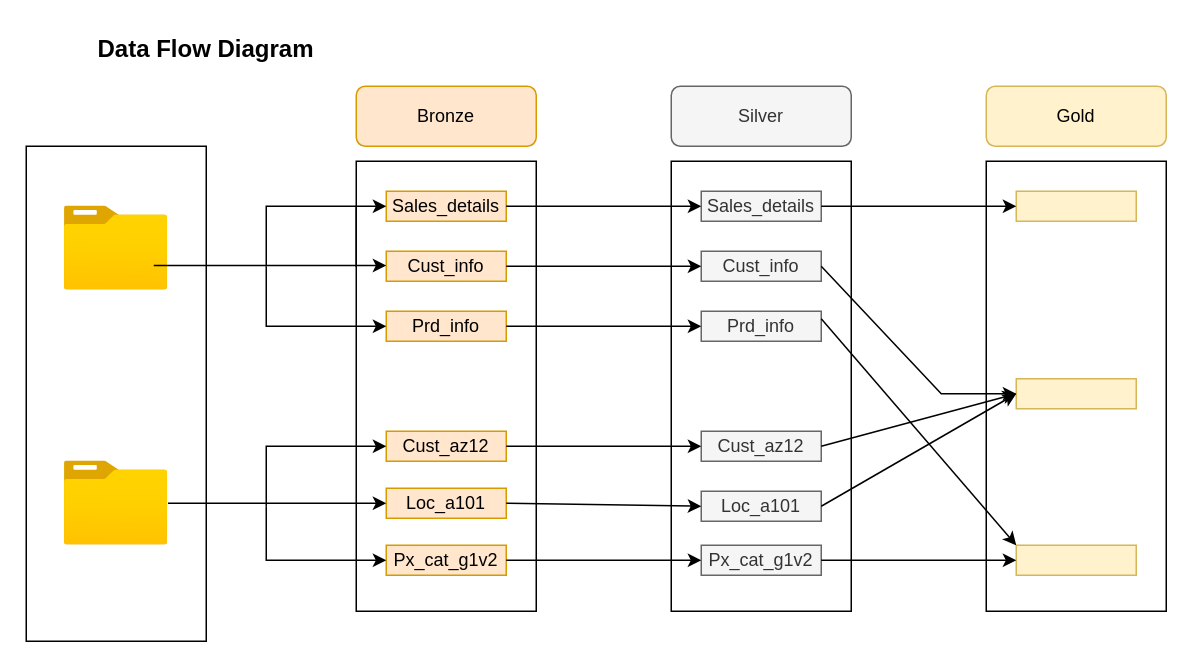
Some shapes in this 1193 by 668 pixel diagram are drawn without their labels. The shapes that lost their labels are listed below. From the top down, each one's centre as x and y in pixels, then its label:
the point at 1075,205: fact_sales
the point at 115,248: CRM
the point at 1075,393: dim_customers
the point at 115,502: ERM
the point at 1075,559: dim_products
